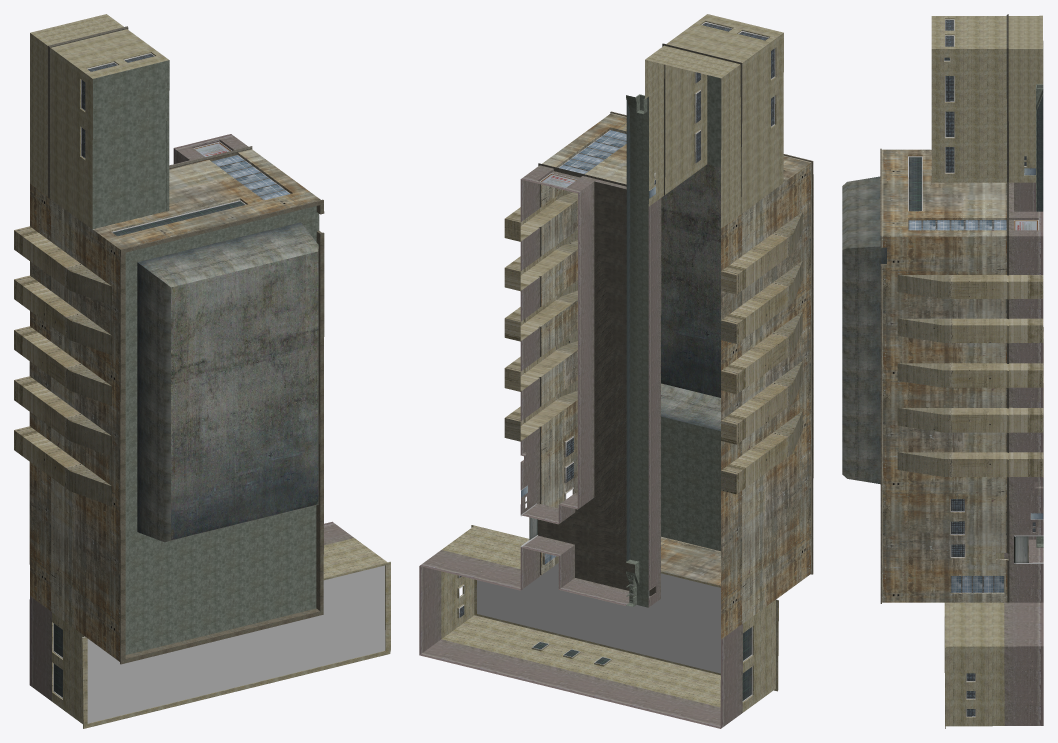
File: kraftwerk_LOD1.fbx
3 renders of one model, left to right at view 1: azimuth 30°, elevation 25°; view 2: azimuth 150°, elevation 25°; view 3: azimuth 270°, elevation 25°, orthographic. The views are drawn at different scales.
Parts seen in each view (by area): view 1: MSH-Object; view 2: MSH-Object; view 3: MSH-Object.
Part boxes in pixels (box(x1,y1,x2,y2)): MSH-Object: box(14, 14, 390, 728); MSH-Object: box(419, 14, 813, 728); MSH-Object: box(842, 14, 1043, 728).
Size of the model in its own units: 67.07 by 131 by 41.08.
